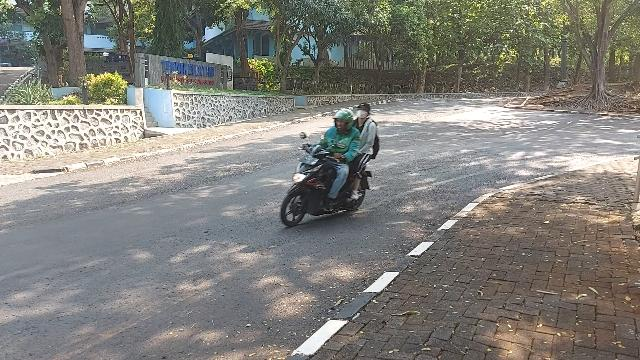helm: (334, 110, 354, 131)
motor: (281, 134, 373, 228)
non-helm: (357, 104, 371, 121)
